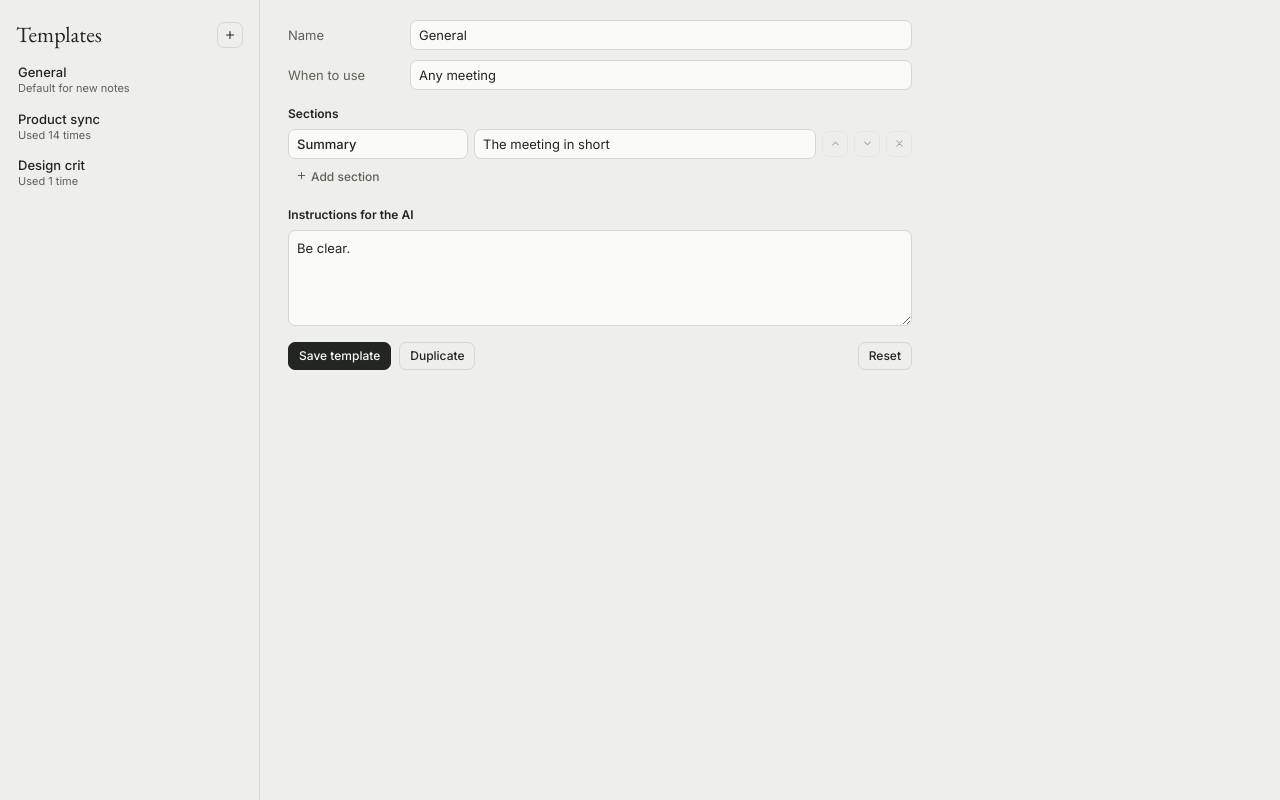
Test: TemplatesScreen › save_sends_sections_and_hints
Step 1. Click the button "Product sync Used 14 times" → {"x": 130, "y": 126}, box [10,104,249,149]
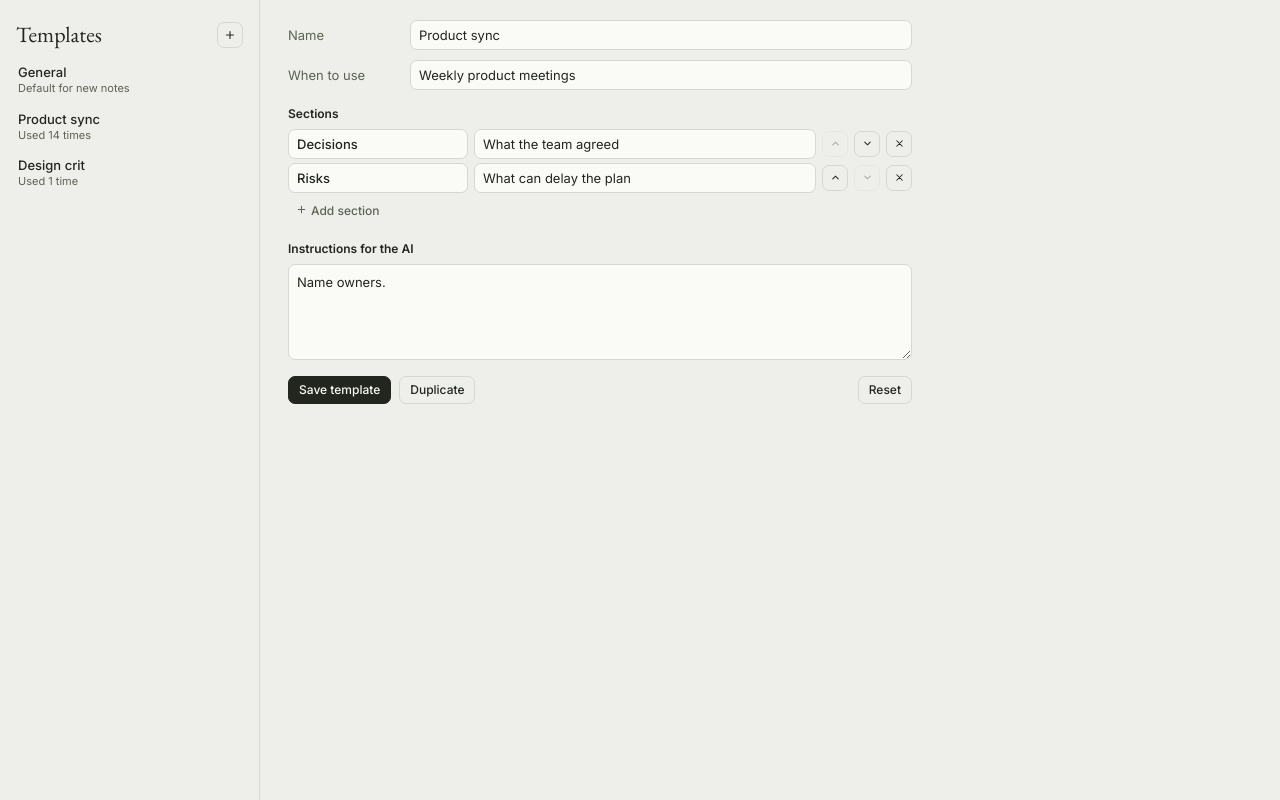
Step 2. Replace the text in the field named "Section 2 hint" with "Things that can slip" → {"x": 645, "y": 178}, box [474,163,816,193]
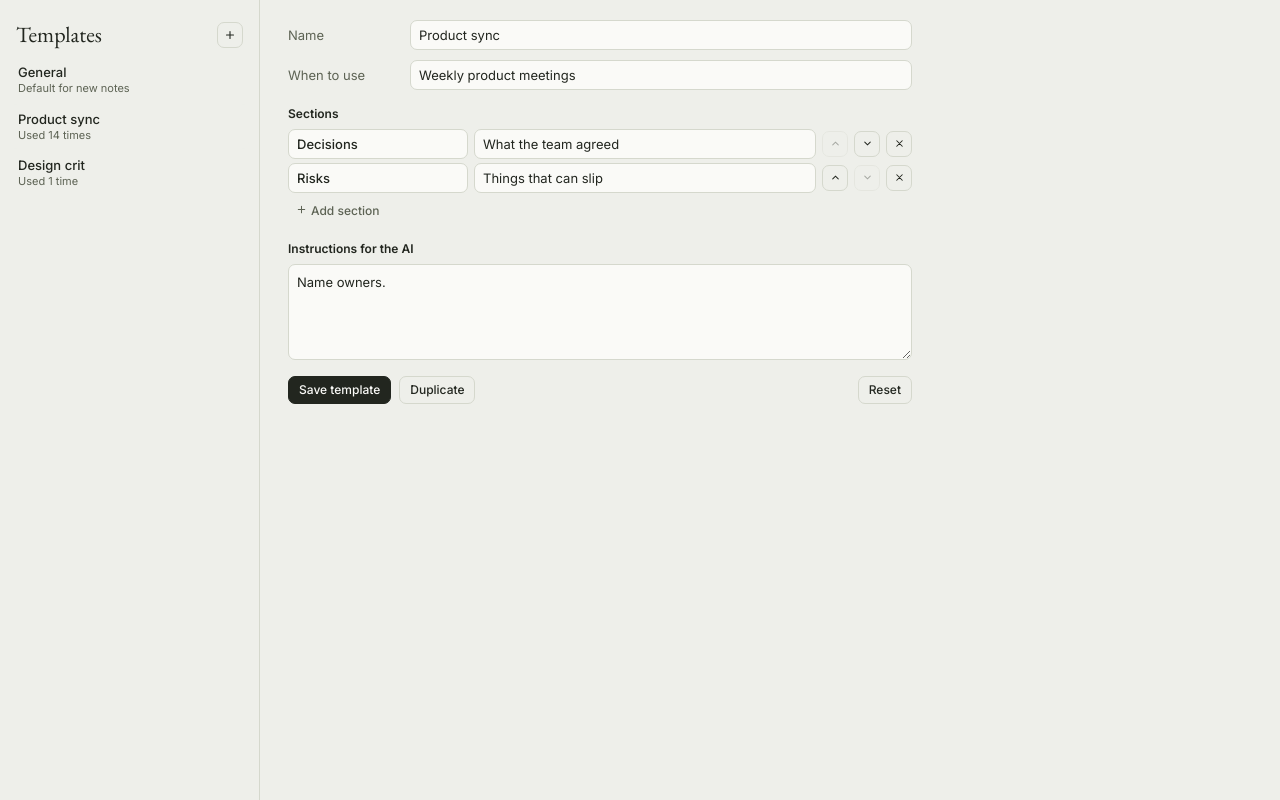
Step 3. Click the button "Add section" → {"x": 338, "y": 211}, box [288,197,388,225]
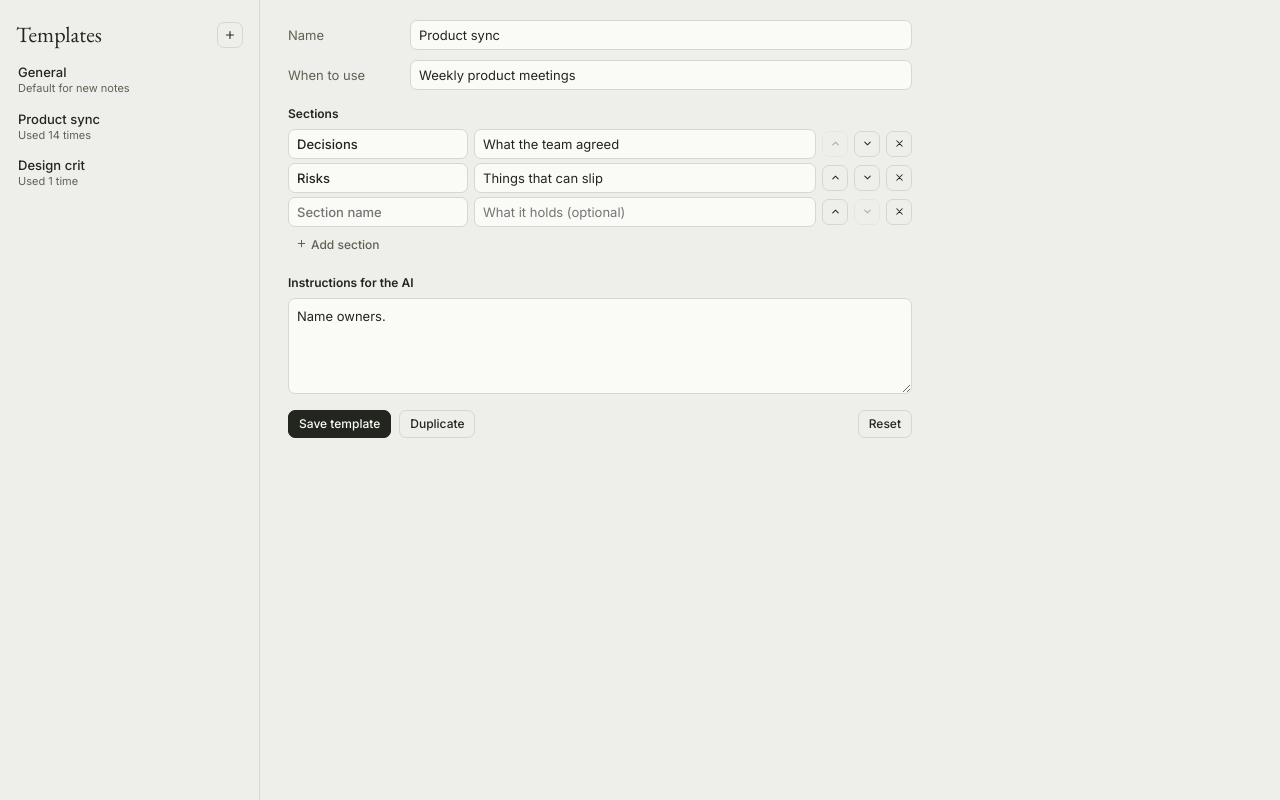
Step 4. Type "Action items" into the field named "Section 3 name" → {"x": 378, "y": 212}, box [288,197,468,227]
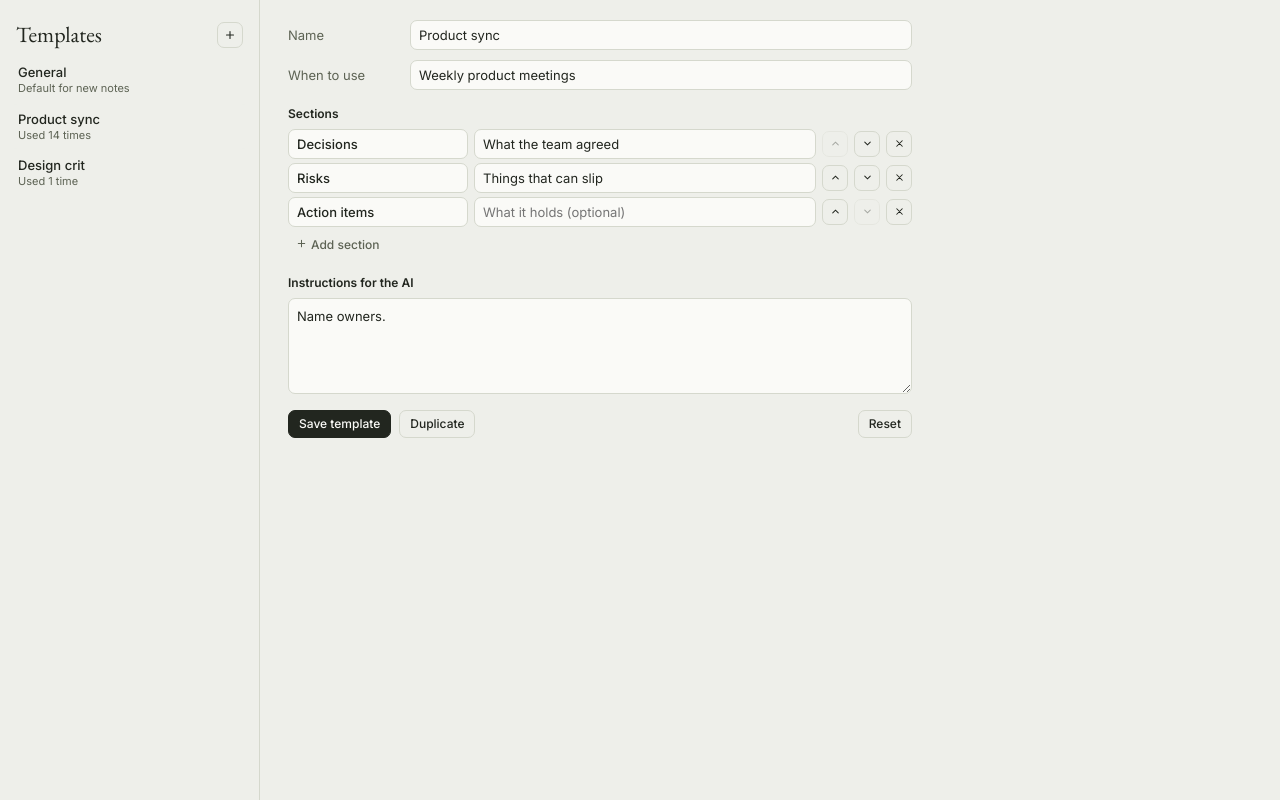
Step 5. Click the button named "Move Risks up" → {"x": 835, "y": 178}, box [822,165,848,191]
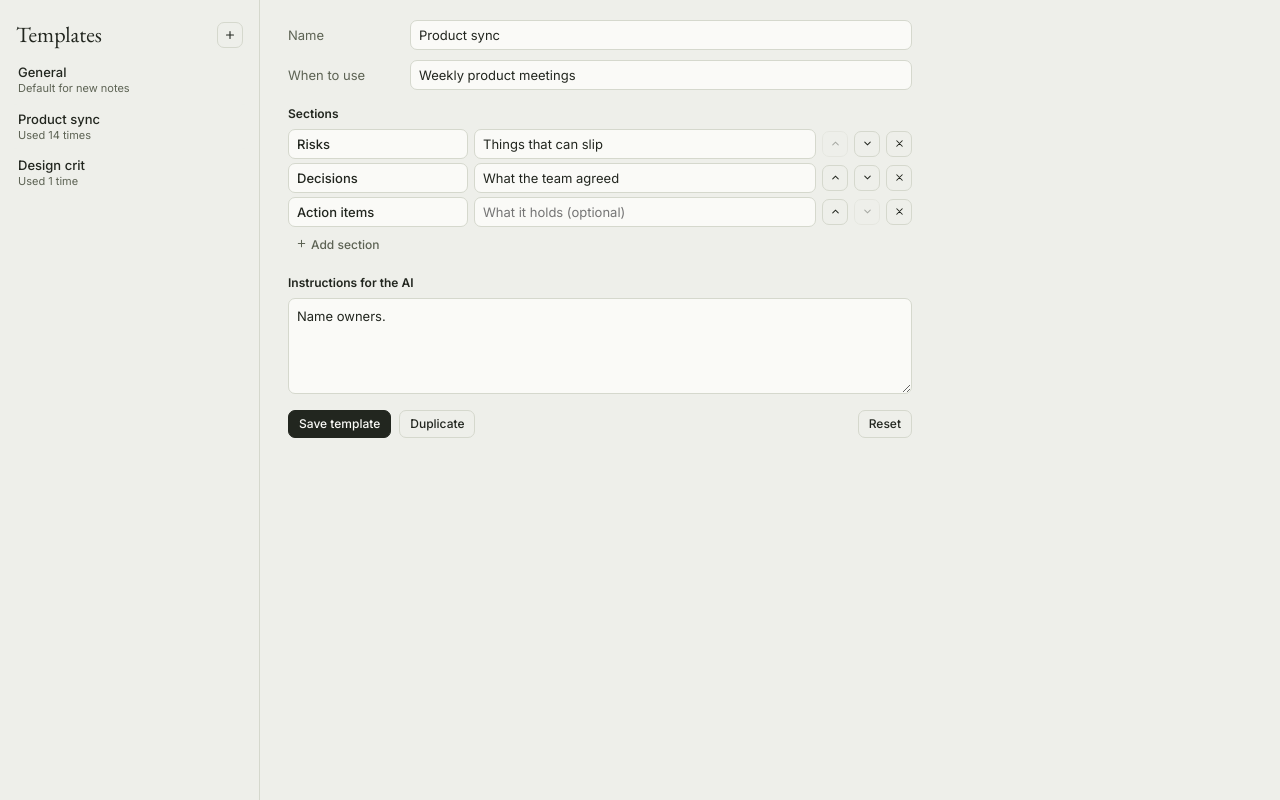
Step 6. Click the button "Save template" → {"x": 340, "y": 424}, box [288,410,391,438]
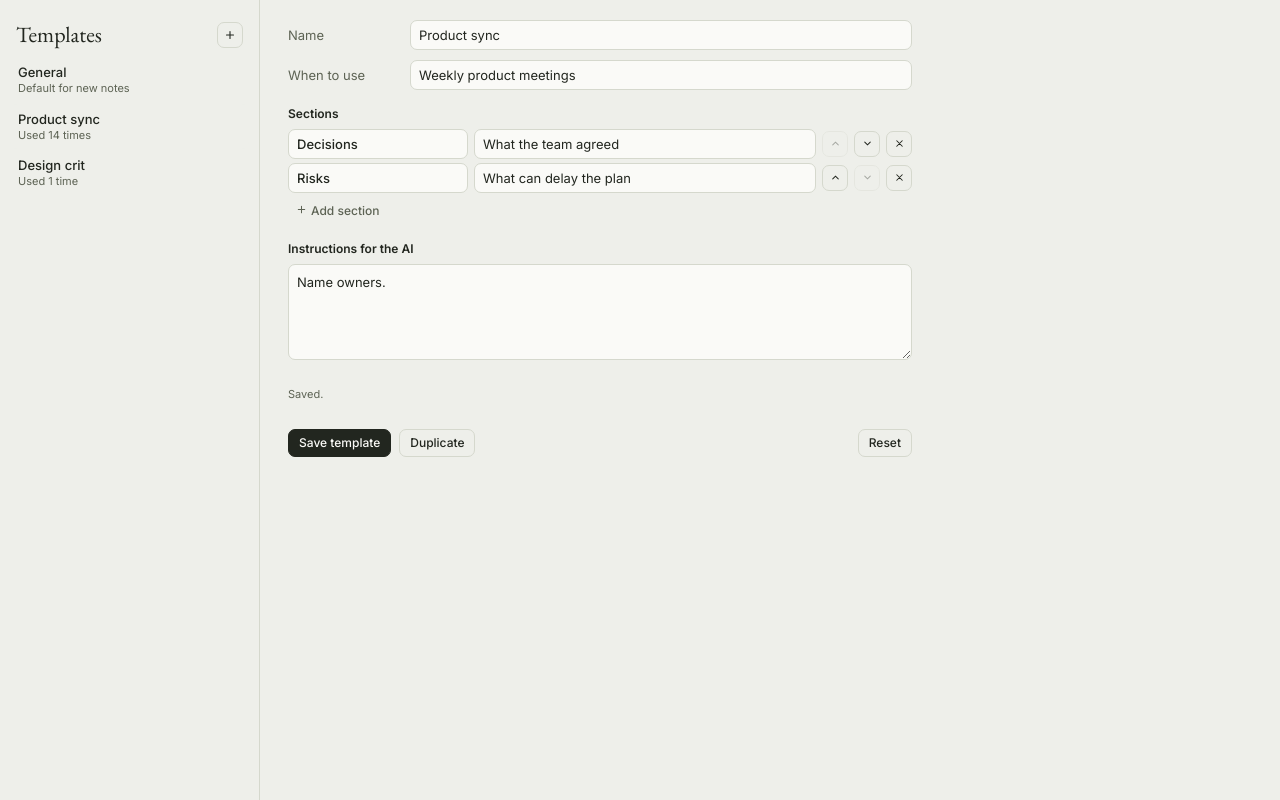
Expected: the text "Saved." is shown, [288,387,323,401]
